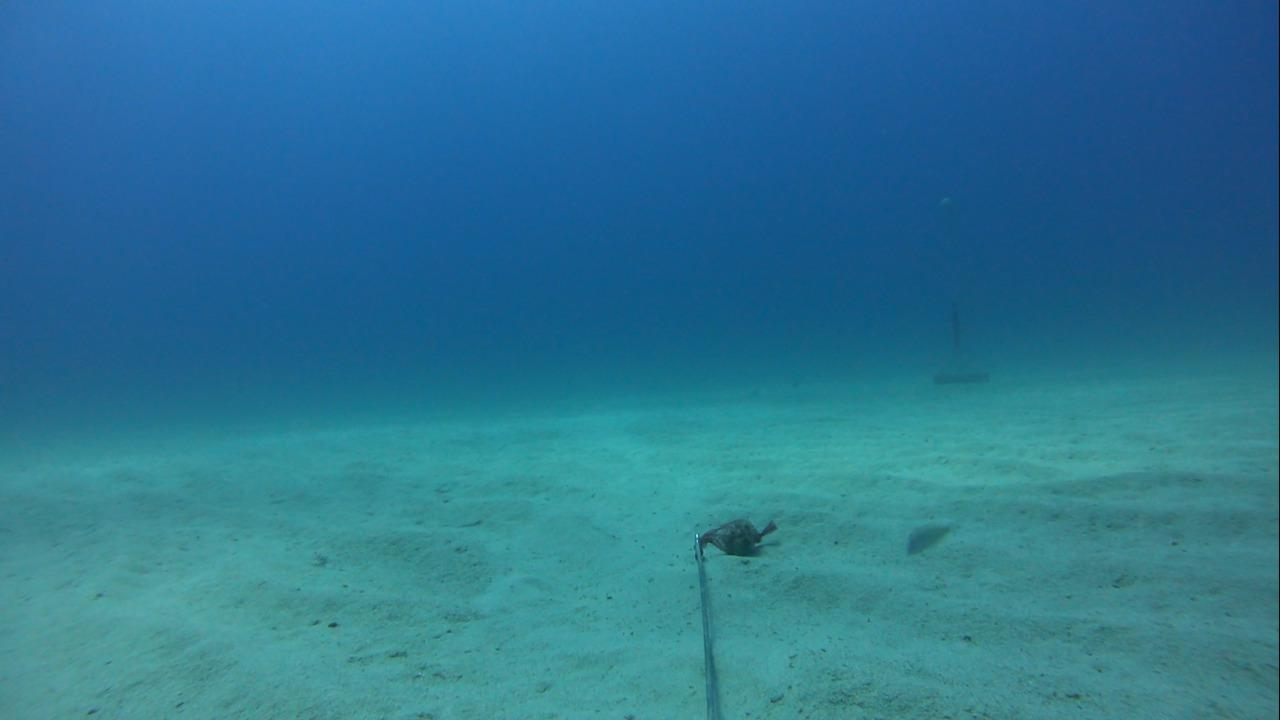raor: (893, 510, 972, 567)
